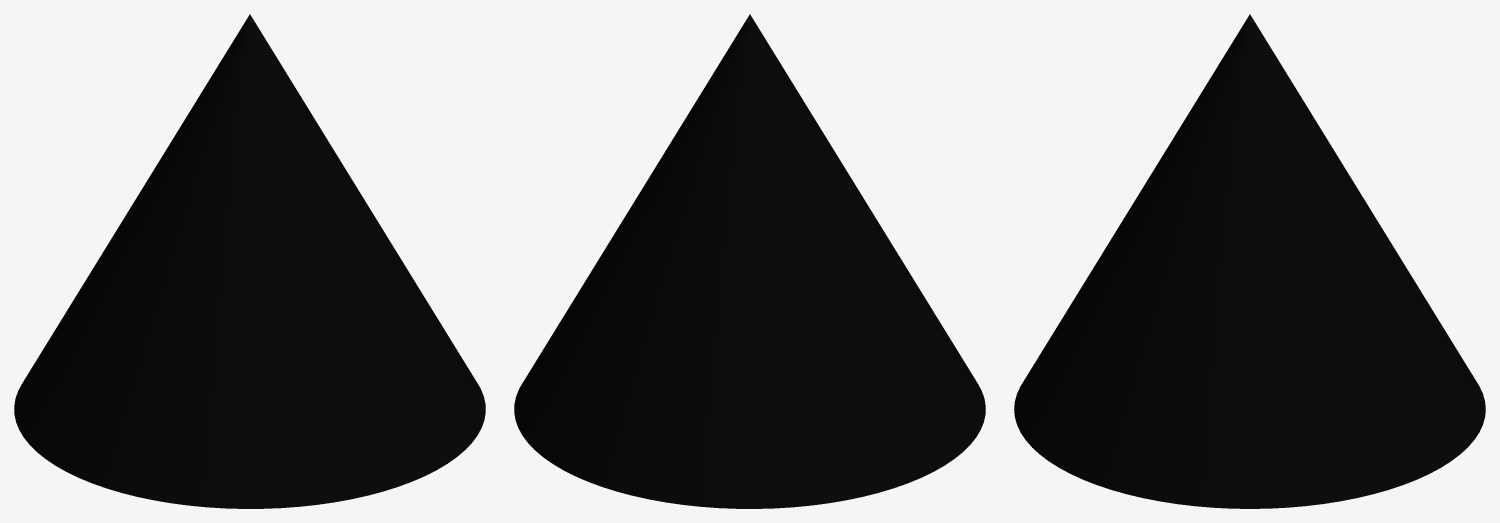
The picture shows the model from 3 angles, left to right: view 1: azimuth 30°, elevation 25°; view 2: azimuth 150°, elevation 25°; view 3: azimuth 270°, elevation 25°; orthographic projection.
Visible parts, largest first — view 1: mesh_id36; view 2: mesh_id36; view 3: mesh_id36.
Boxes of the visible parts, x1,y1,x2,y2 form: mesh_id36: (14, 14, 485, 508); mesh_id36: (514, 14, 985, 508); mesh_id36: (1014, 14, 1485, 508).
Size of the model in its own units: 0.3117 by 0.2883 by 0.3117.
Materials: 1 (1 with a texture image).
